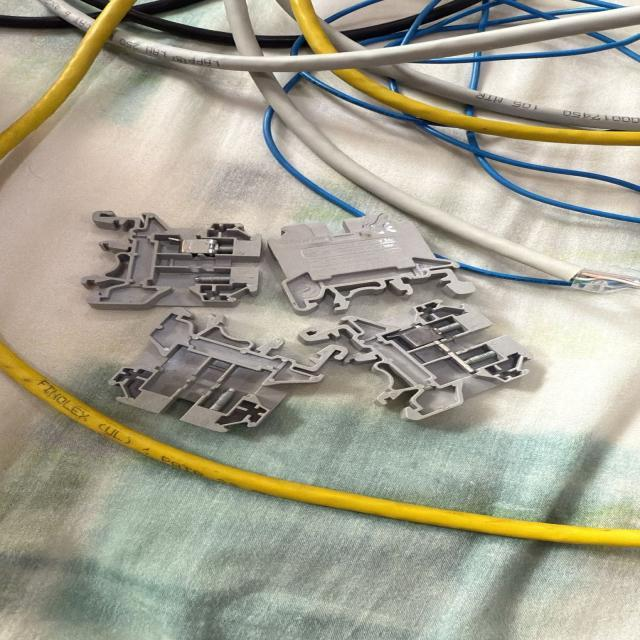Inverted: (271, 215, 478, 306)
Reject: (110, 308, 343, 433), (304, 302, 532, 420), (81, 208, 266, 309)
